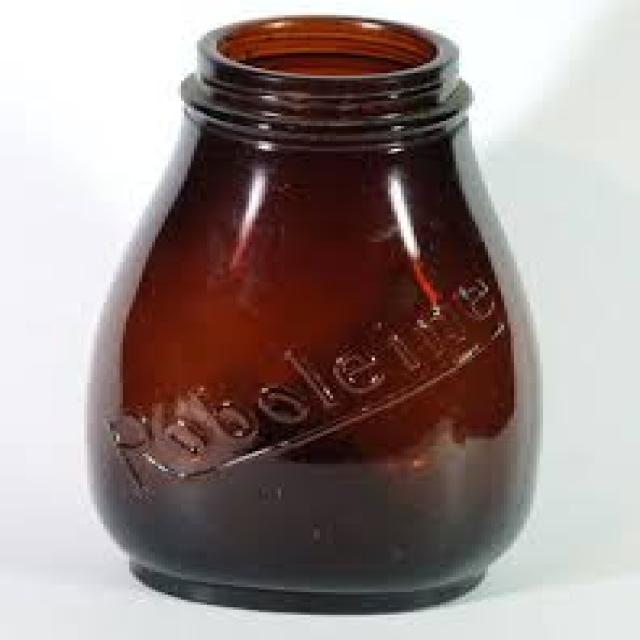glass: (84, 13, 540, 612)
